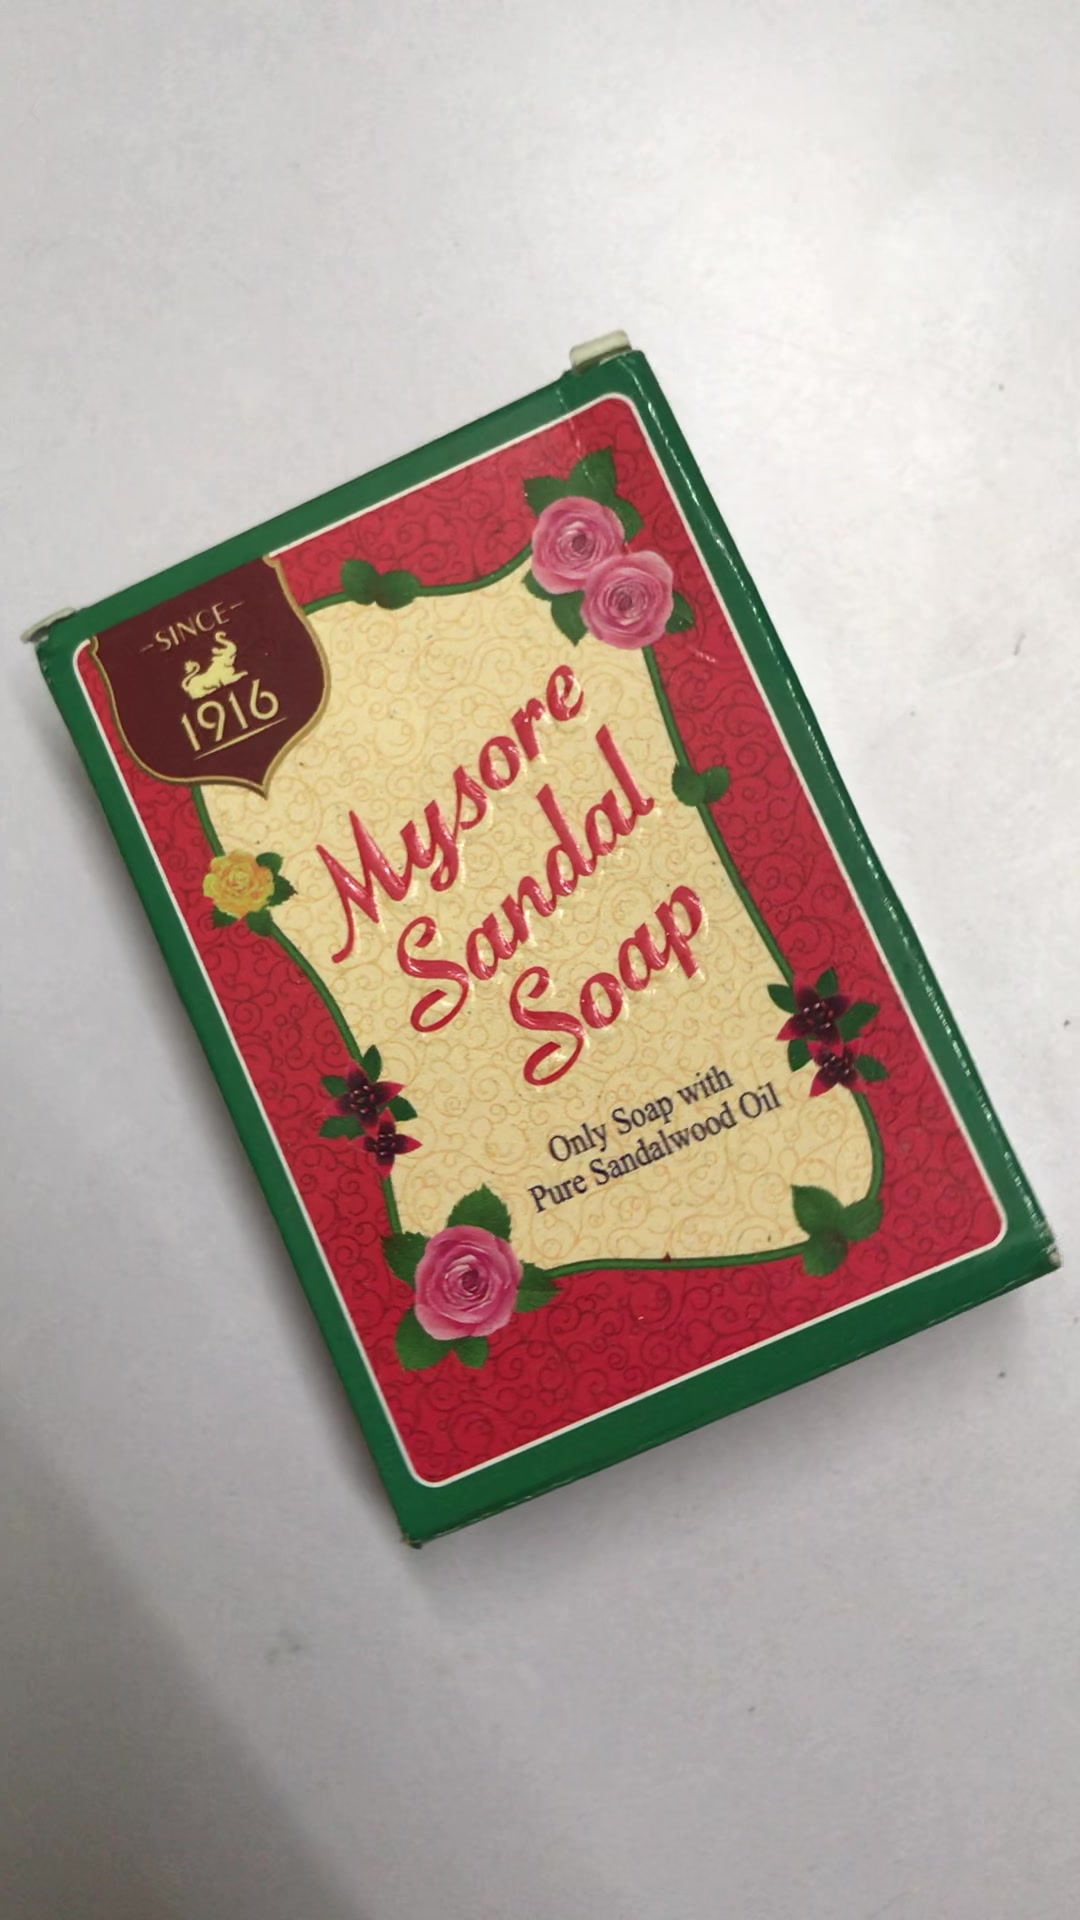mysore sandal soap: (28, 353, 1072, 1552)
